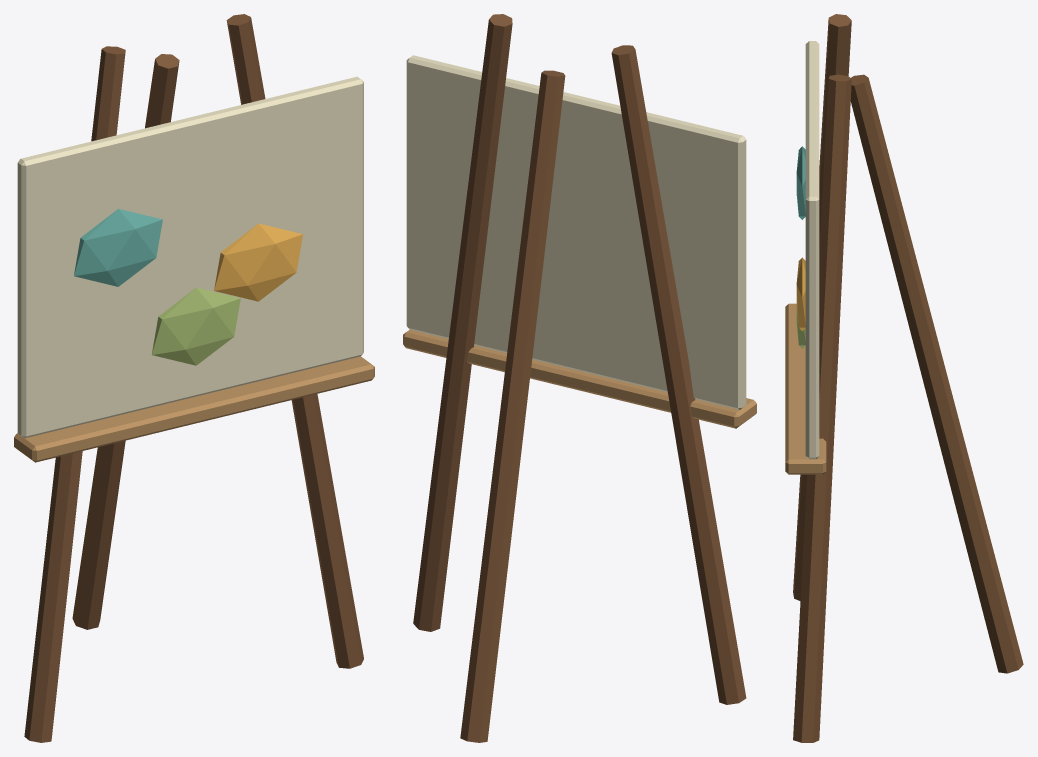
Rendered from CC_Painting.fbx.
3 views of the same model, side by side, from view 1: azimuth 30°, elevation 25°; view 2: azimuth 150°, elevation 25°; view 3: azimuth 270°, elevation 25° (orthographic). The views are drawn at different scales.
Visible parts, largest first — view 1: Canvas, Easel leg, Easel leg.001, Easel ledge, Easel leg.002, Paint blob.002, Paint blob.001, Paint blob; view 2: Canvas, Easel leg.002, Easel leg, Easel leg.001, Easel ledge; view 3: Easel leg.002, Easel leg.001, Canvas, Easel ledge, Easel leg, Paint blob.001, Paint blob.
Part boxes in pixels (bbox=[...]): Canvas: bbox=[17, 76, 363, 438]; Easel leg: bbox=[24, 46, 125, 742]; Easel leg.001: bbox=[226, 14, 363, 668]; Easel ledge: bbox=[14, 356, 374, 462]; Easel leg.002: bbox=[72, 54, 179, 629]; Paint blob.002: bbox=[151, 287, 240, 365]; Paint blob.001: bbox=[214, 223, 302, 301]; Paint blob: bbox=[74, 209, 162, 286]; Canvas: bbox=[406, 55, 746, 409]; Easel leg.002: bbox=[460, 70, 565, 742]; Easel leg: bbox=[611, 45, 746, 704]; Easel leg.001: bbox=[413, 14, 512, 631]; Easel ledge: bbox=[403, 329, 756, 428]; Easel leg.002: bbox=[850, 74, 1023, 673]; Easel leg.001: bbox=[793, 74, 851, 742]; Canvas: bbox=[805, 41, 819, 459]; Easel ledge: bbox=[785, 303, 826, 474]; Easel leg: bbox=[793, 14, 851, 600]; Paint blob.001: bbox=[796, 257, 805, 331]; Paint blob: bbox=[796, 146, 805, 219].
Bounding box in the file's own units: 1.1 × 2.01 × 0.6989.
